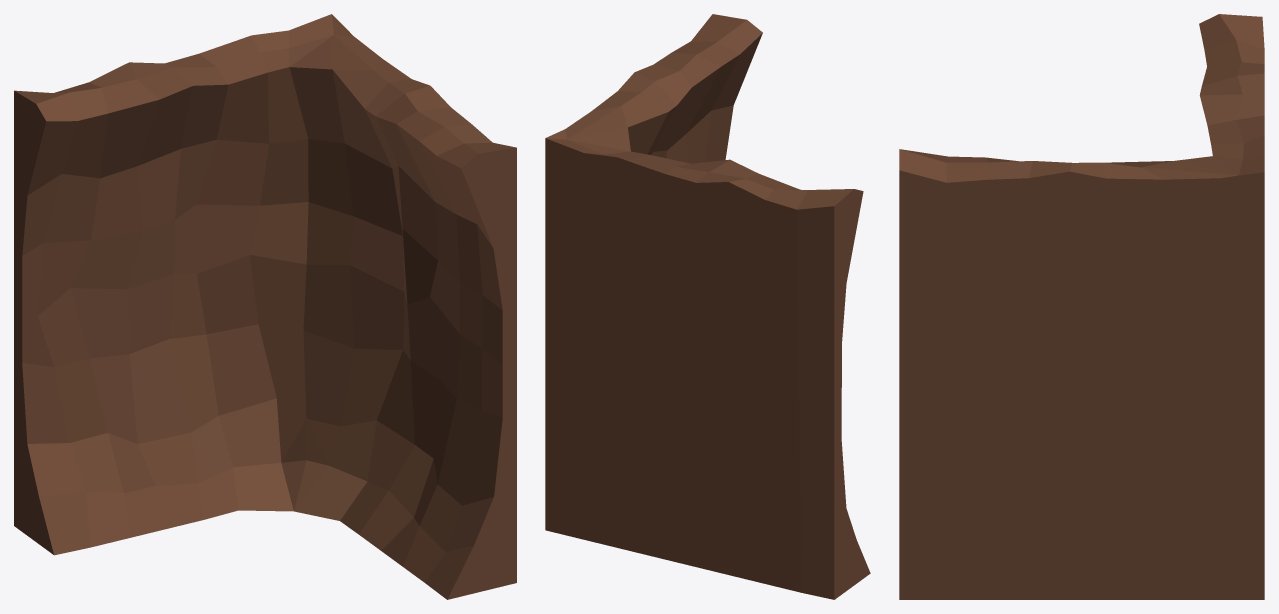
File: CaveWallRoundHigh.fbx
The picture shows the model from 3 angles, left to right: view 1: azimuth 30°, elevation 25°; view 2: azimuth 150°, elevation 25°; view 3: azimuth 270°, elevation 25°; orthographic projection. The views are drawn at different scales.
Parts seen in each view (by area): view 1: CaveWallRoundHigh; view 2: CaveWallRoundHigh; view 3: CaveWallRoundHigh.
Boxes of the visible parts, left/top/right/bottom form: CaveWallRoundHigh: left=14, top=14, right=516, bottom=599; CaveWallRoundHigh: left=545, top=14, right=870, bottom=599; CaveWallRoundHigh: left=899, top=14, right=1264, bottom=599.
Bounding box in the file's own units: 536 × 705 × 539.
Materials: 1 (1 with a texture image).
